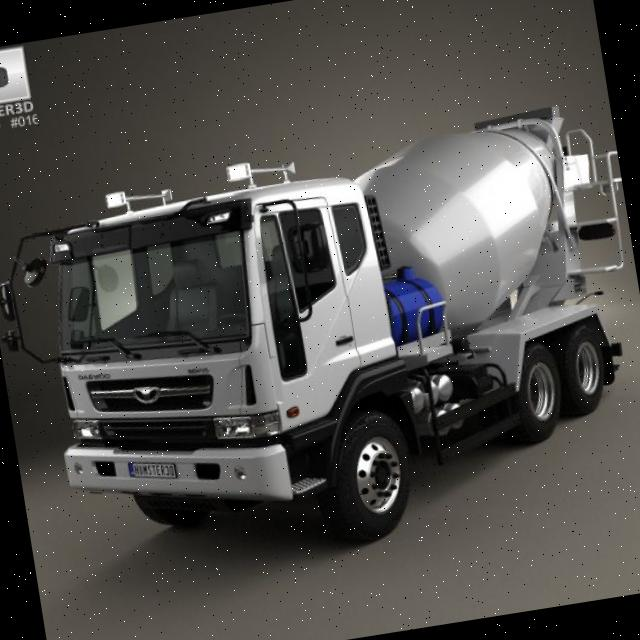Mixer Truck: (23, 98, 640, 583)
